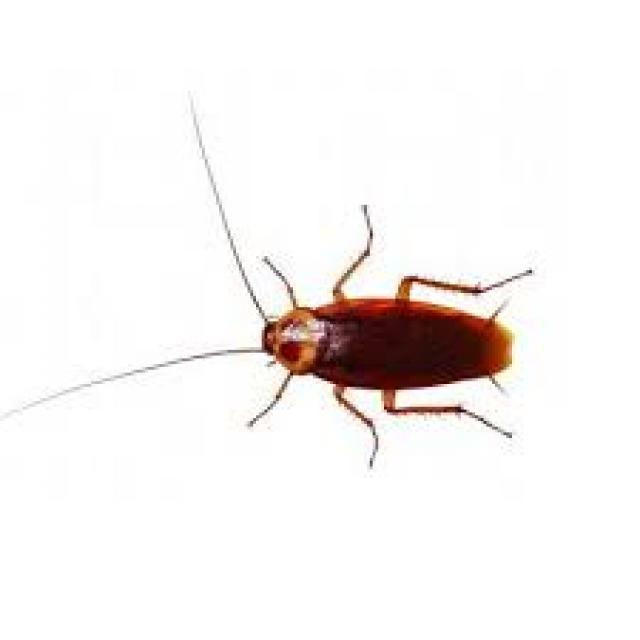Cockroach: (8, 84, 539, 482)
